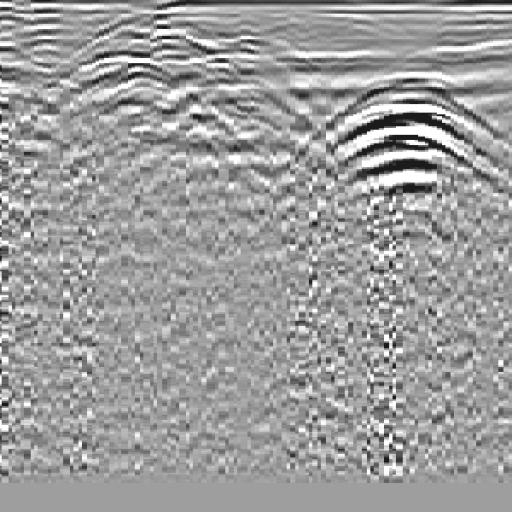metalic: (294, 46, 499, 257)
